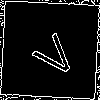V: (25, 25, 81, 82)
